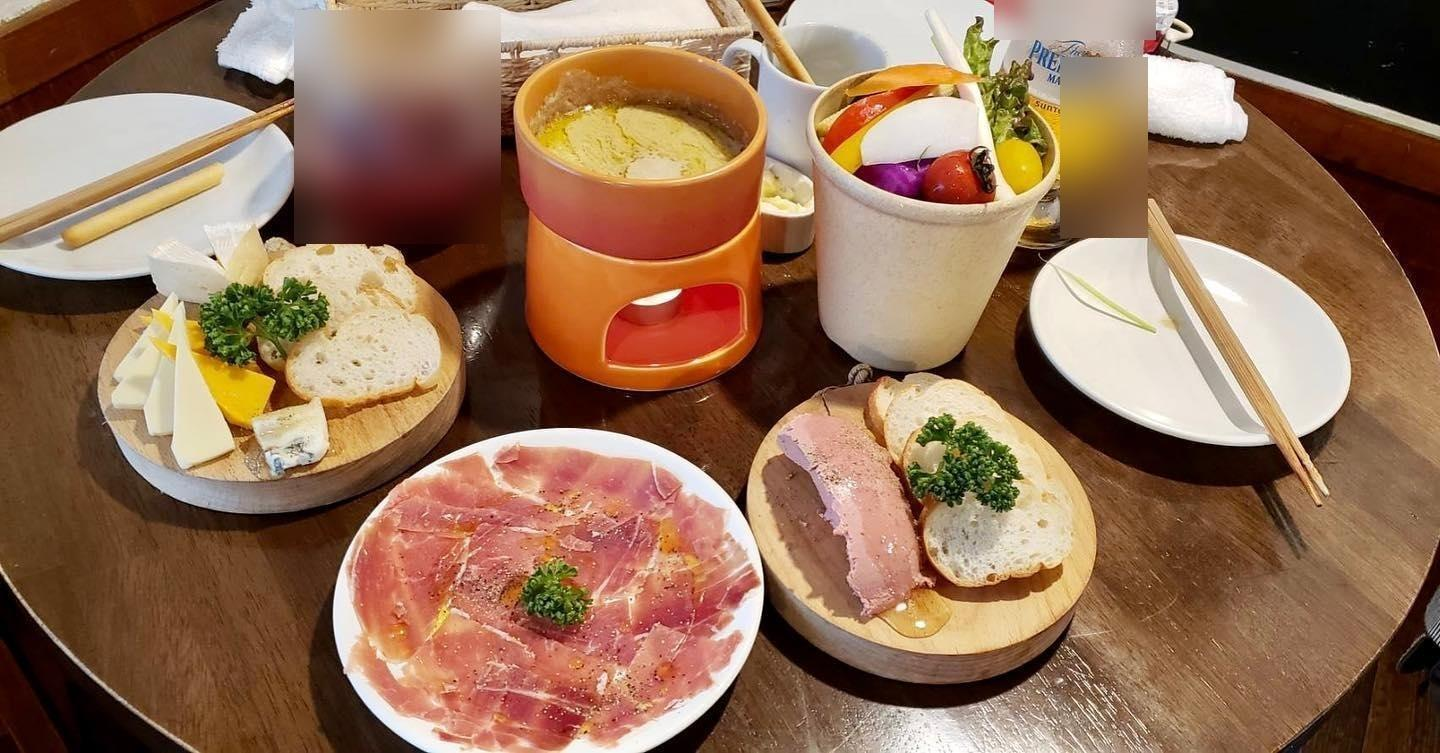cup-disposable: (801, 57, 1068, 384)
